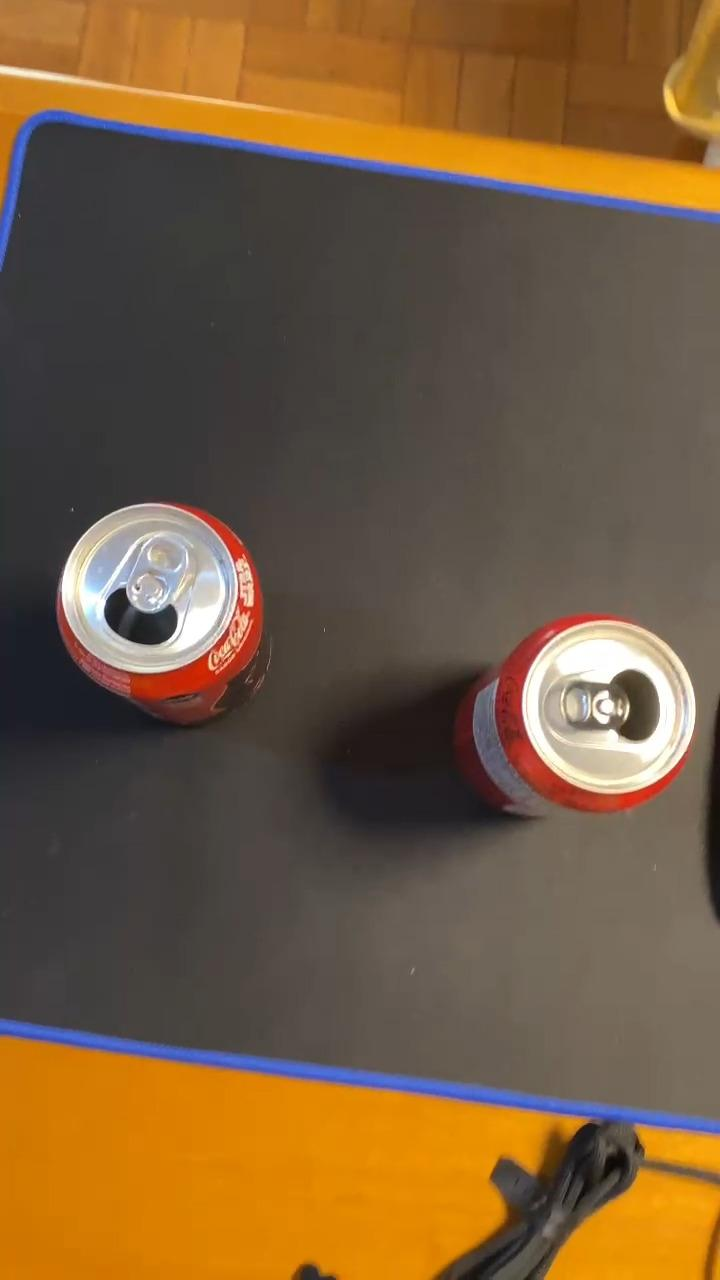coke: (456, 613, 699, 817), (53, 497, 269, 721)
